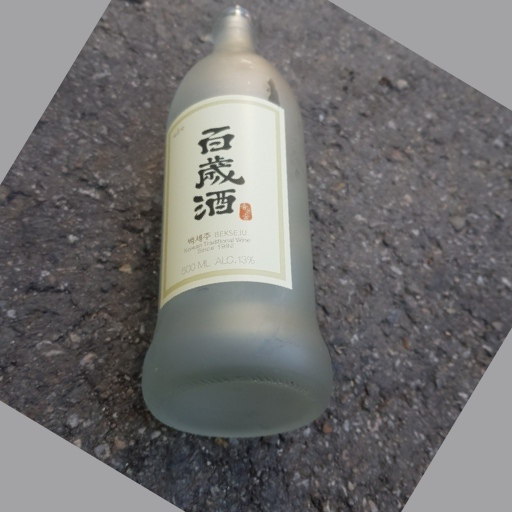Glass_0: (139, 4, 334, 439)
